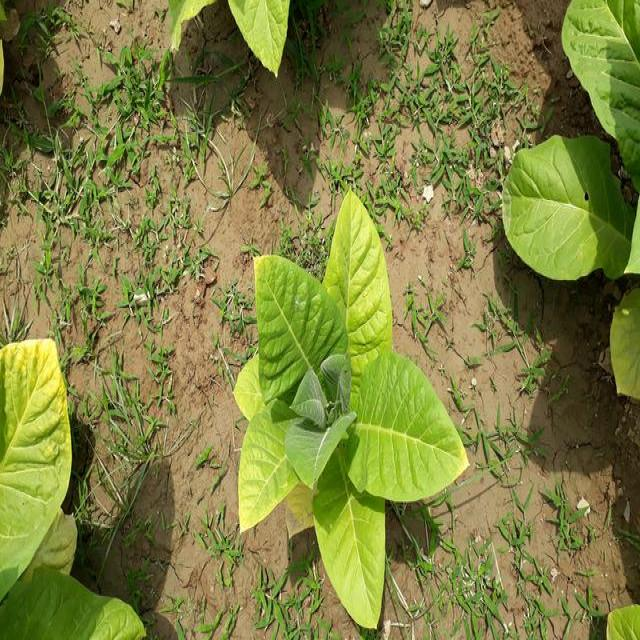crop: (230, 186, 478, 632)
